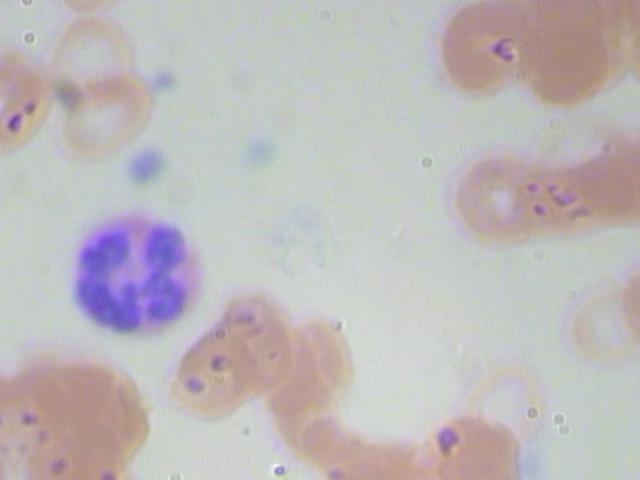Platelets: (60, 201, 211, 345)
RBC: (47, 64, 165, 167), (156, 319, 274, 422), (445, 135, 548, 250), (430, 0, 539, 101), (268, 308, 361, 402), (462, 352, 555, 445), (523, 14, 615, 108), (0, 428, 3, 480)
WBC: (24, 419, 133, 480)
